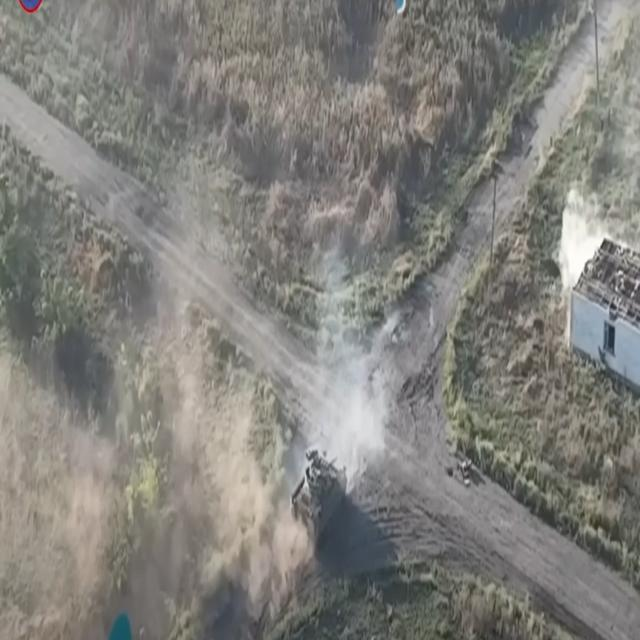AIFV: (291, 445, 350, 552)
